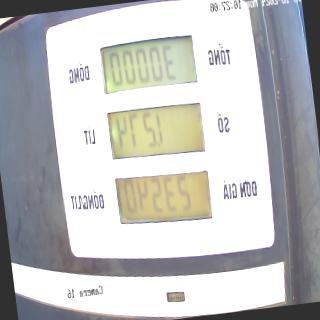screen: (96, 28, 218, 236)
